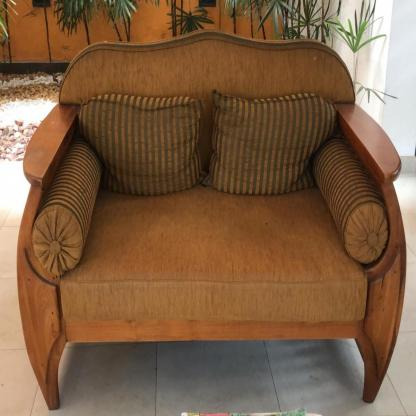Sofa: (18, 30, 406, 405)
